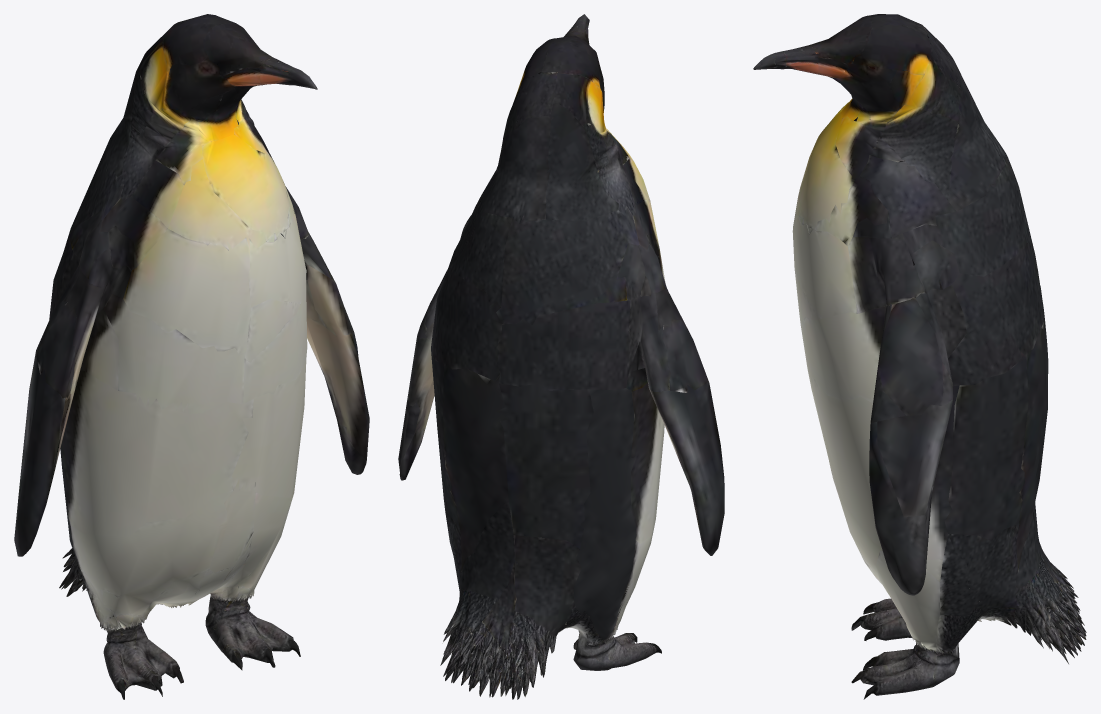
File: penguin.glb
The picture shows the model from 3 angles, left to right: view 1: azimuth 30°, elevation 25°; view 2: azimuth 150°, elevation 25°; view 3: azimuth 270°, elevation 25°; orthographic projection. The views are drawn at different scales.
Visible parts, largest first — view 1: penguin; view 2: penguin; view 3: penguin.
Part boxes in pixels (<box>): penguin: <box>14,14,369,699</box>; penguin: <box>398,14,724,699</box>; penguin: <box>753,14,1086,699</box>.
Size of the model in its own units: 0.6372 by 1.15 by 0.5392.
1 material, 1 textured.
